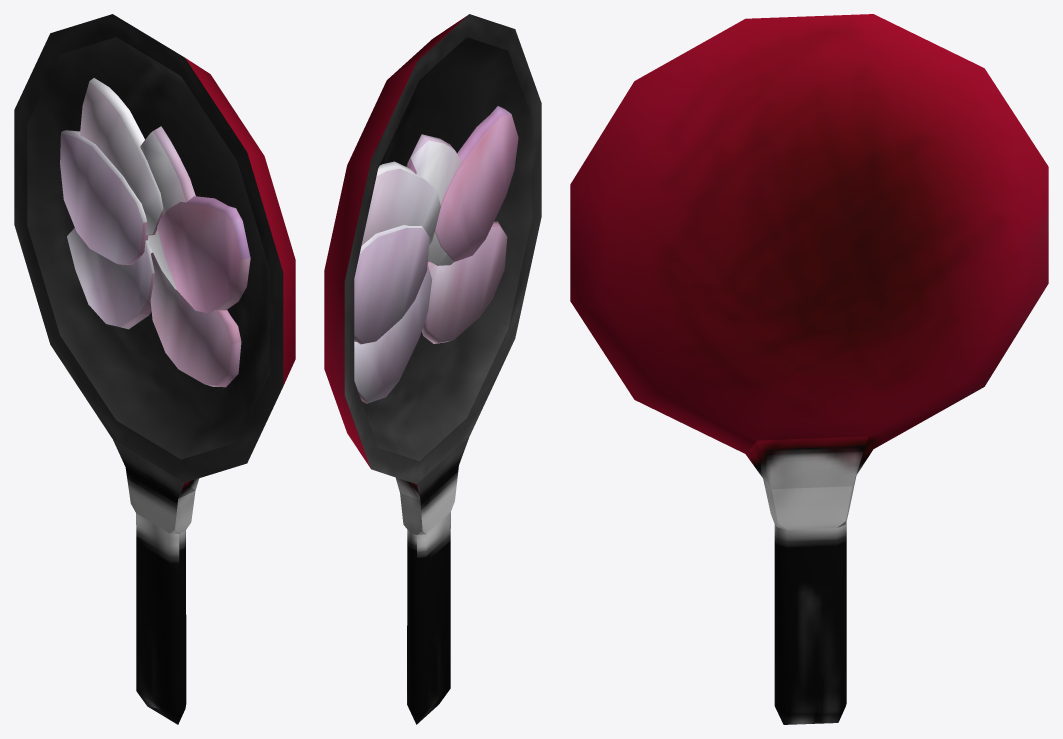
The model's file is AL_Fajitas_Static.fbx.
3 views of the same model, side by side, from view 1: azimuth 30°, elevation 25°; view 2: azimuth 150°, elevation 25°; view 3: azimuth 270°, elevation 25° (orthographic). The views are drawn at different scales.
Parts seen in each view (by area): view 1: FishFillet.001; view 2: FishFillet.001; view 3: FishFillet.001.
Part boxes in pixels (x1,y1,x2,y2): FishFillet.001: (14,14,295,724); FishFillet.001: (324,14,541,724); FishFillet.001: (570,14,1048,724).
Size of the model in its own units: 0.4325 by 0.6984 by 0.074.
